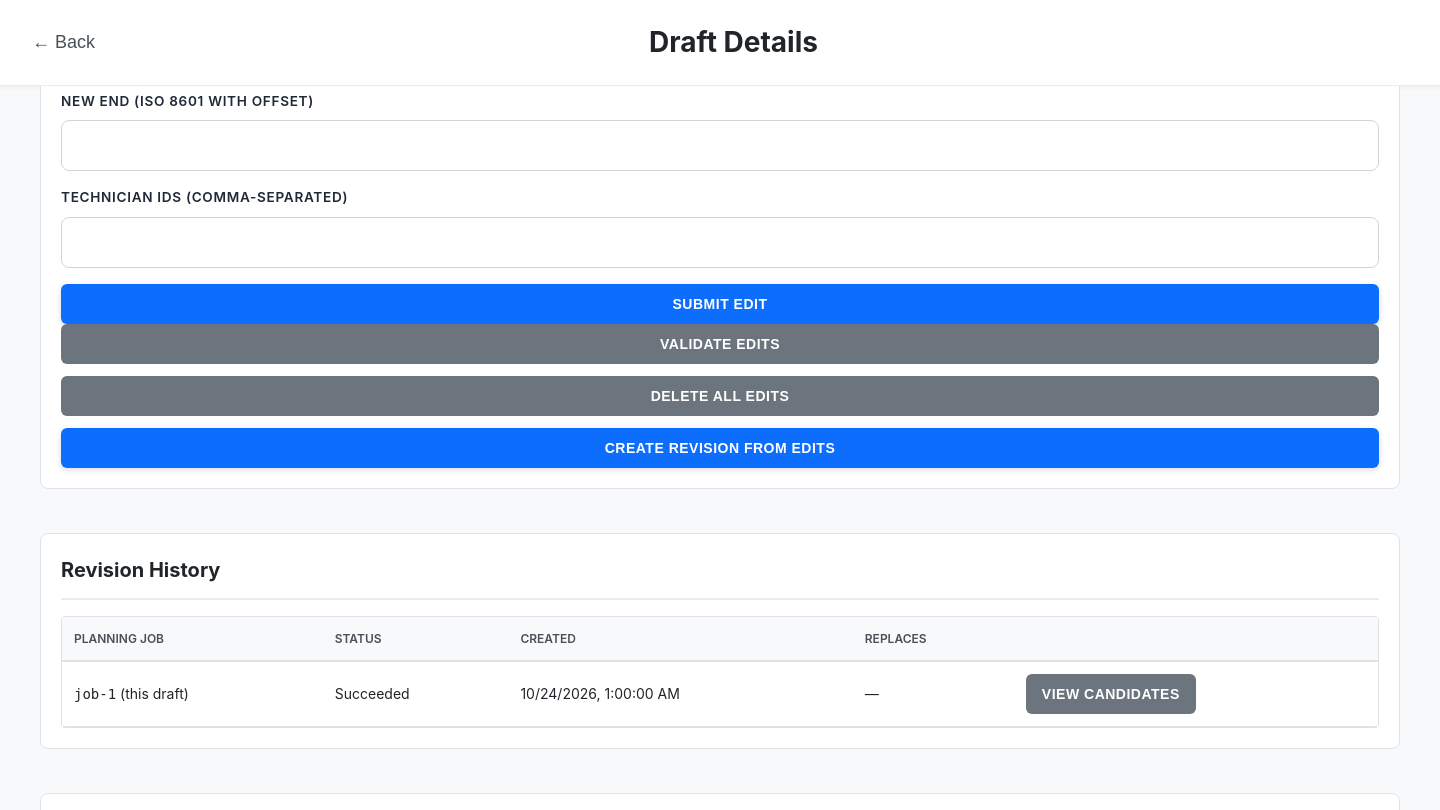
DraftDetailScreen draft management › lists every violation when the edited plan is rejected, and offers no revision
The width and height of the screenshot is (1440, 810).
(page scrolled)
Click the button "Create revision from edits": (720, 448) left=61, top=428, right=1379, bottom=468
(page scrolled)
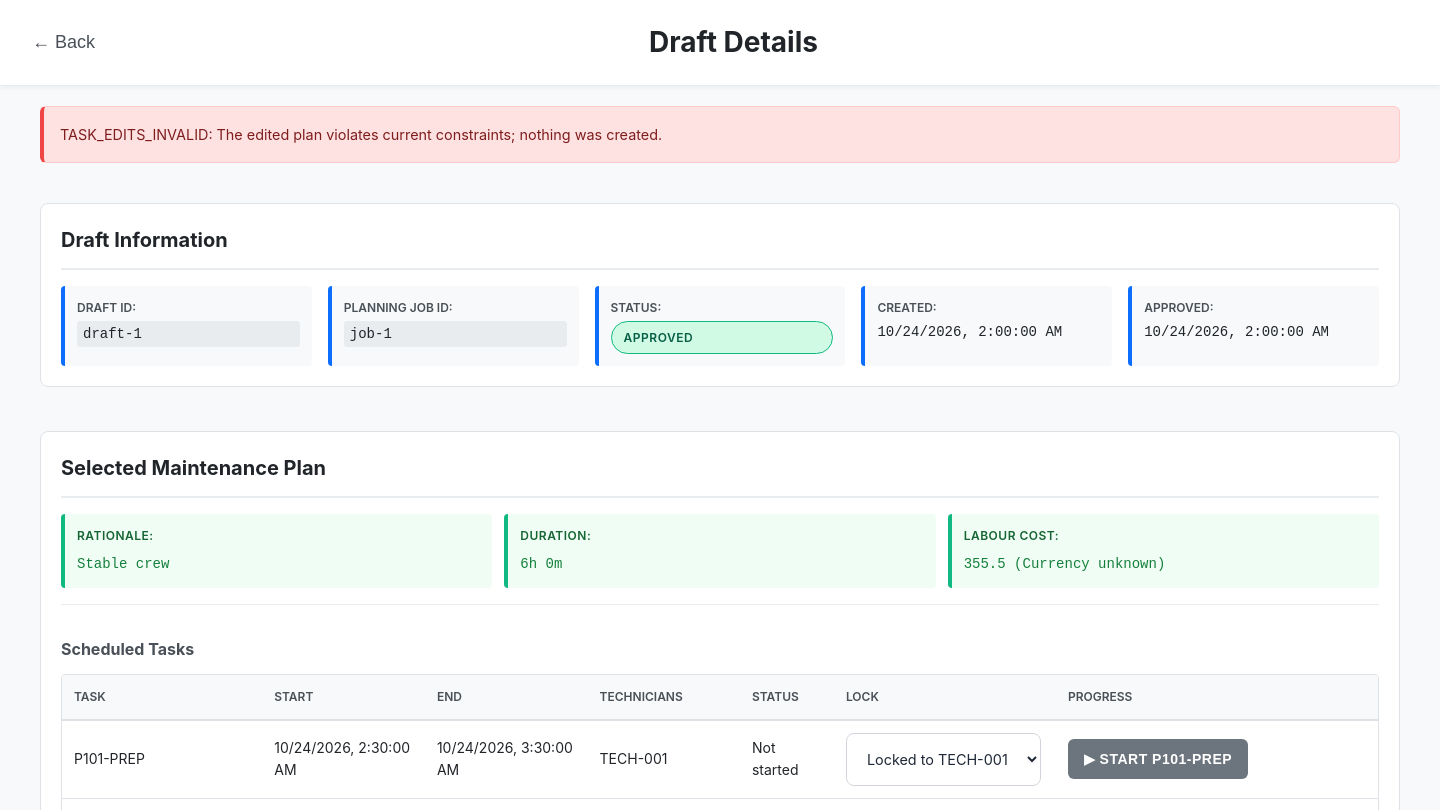
Result: the message shows "TASK_EDITS_INVALID" at left=60, top=126, right=662, bottom=143
